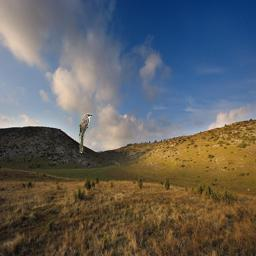Cuckoo: (79, 113, 92, 153)
